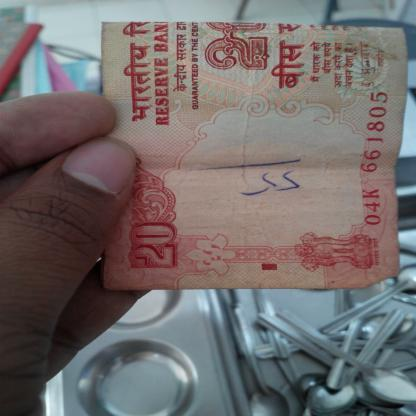Old20Front: (102, 20, 396, 284)
